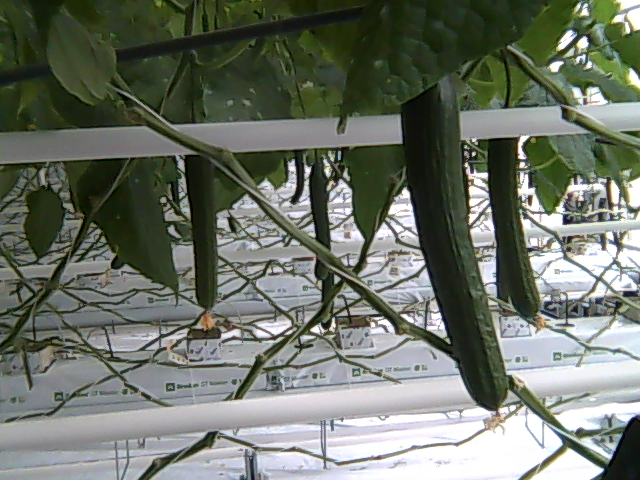concombre: (400, 73, 511, 437)
